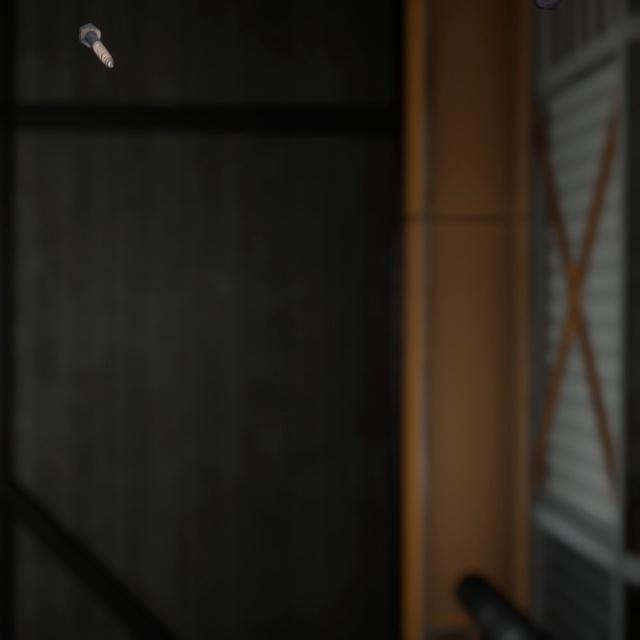bolt: (74, 10, 118, 62)
